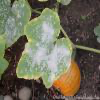Squash Powdery mildew leaf: (17, 6, 73, 91)
